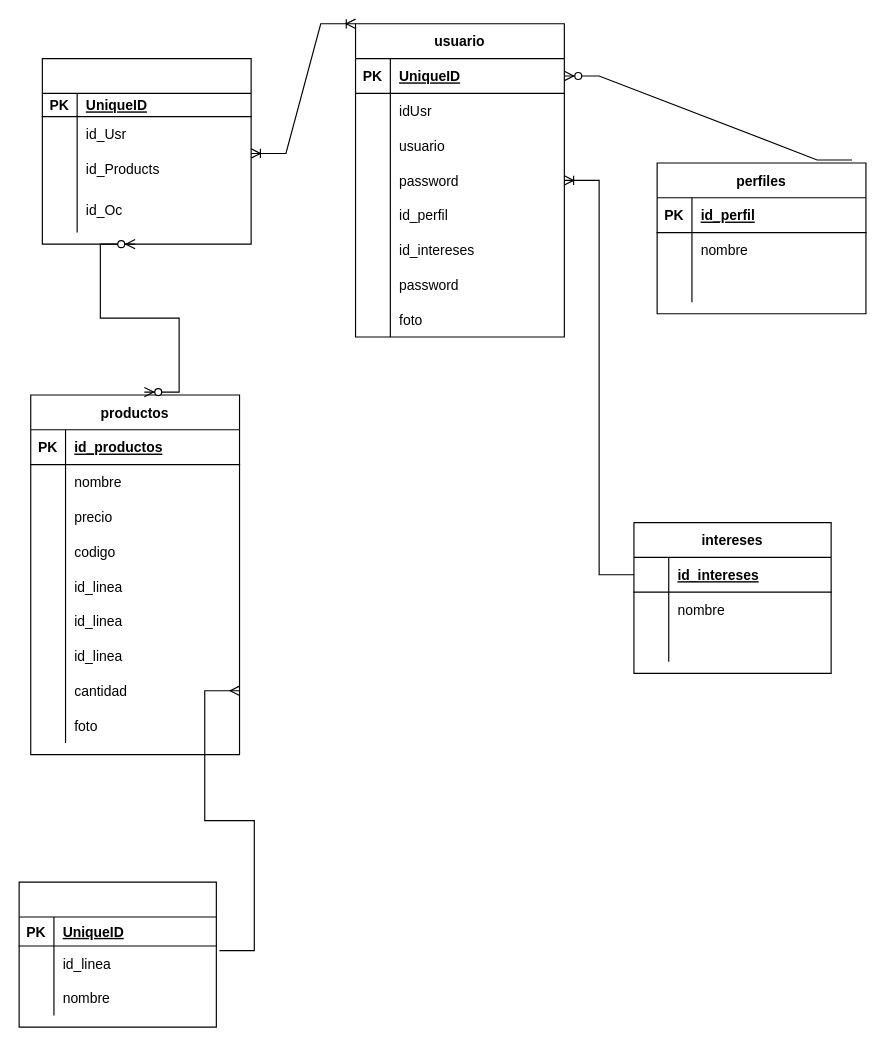
Image size: 885x1046. Some labels were removed from this diagram. Here are the shapes that lost their labels. From the top down, the box of each, then its label:
(41, 57, 251, 244): comprasdeusuarios
(18, 881, 216, 1027): lineas
